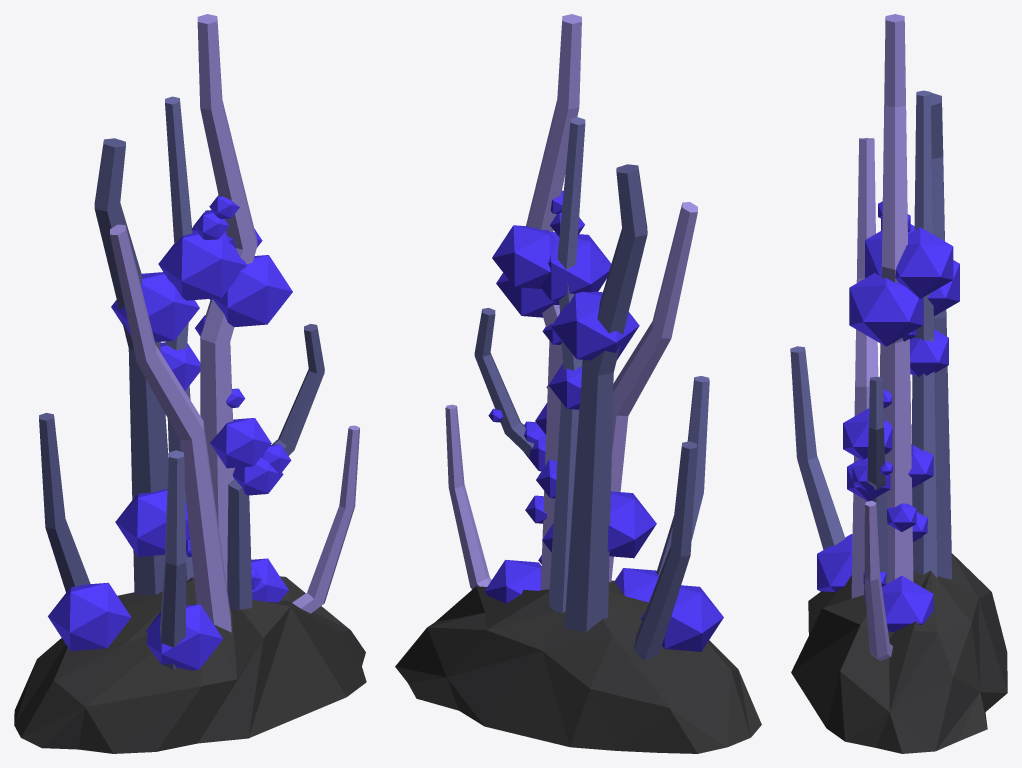
File: NC_Tree02.fbx
3 views of the same model, side by side, from view 1: azimuth 30°, elevation 25°; view 2: azimuth 150°, elevation 25°; view 3: azimuth 270°, elevation 25° (orthographic). The views are drawn at different scales.
Parts seen in each view (by area): view 1: NC_Tree02; view 2: NC_Tree02; view 3: NC_Tree02.
Boxes of the visible parts, <box> form: NC_Tree02: <box>14,14,366,753</box>; NC_Tree02: <box>395,14,761,753</box>; NC_Tree02: <box>790,14,1007,753</box>.
Bounding box in the file's own units: 96.16 × 181 × 53.74.
1 material, 1 textured.
